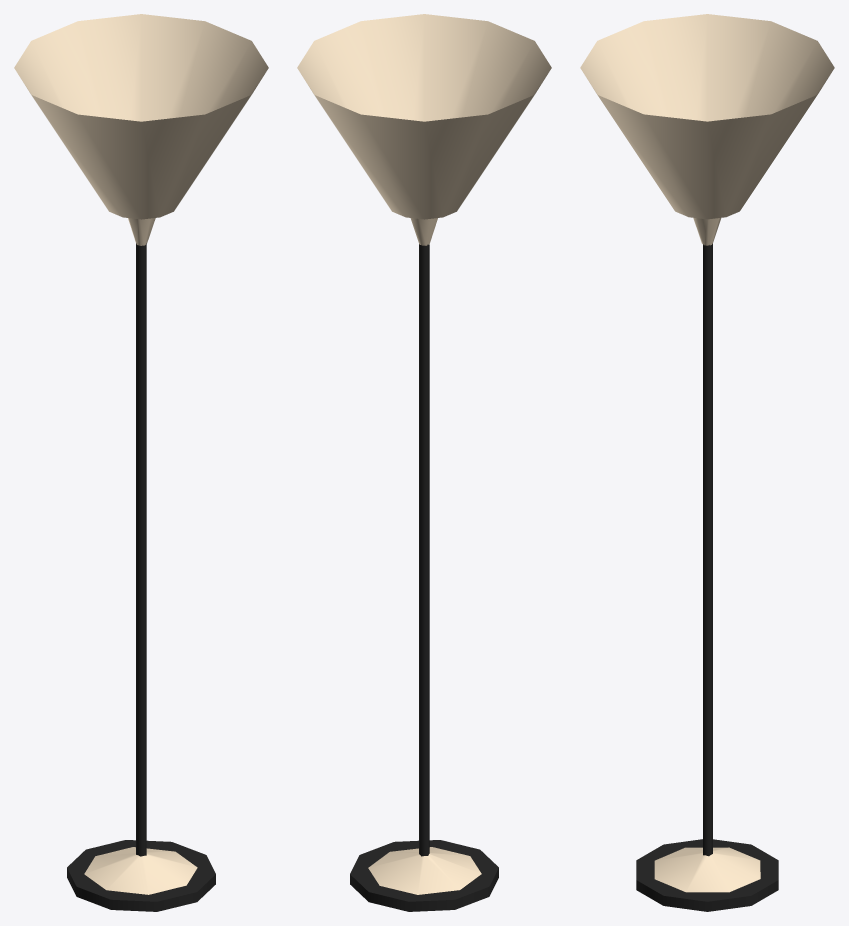
Rendered from Lamp.fbx.
3 renders of one model, left to right at view 1: azimuth 30°, elevation 25°; view 2: azimuth 150°, elevation 25°; view 3: azimuth 270°, elevation 25°, orthographic.
Parts seen in each view (by area): view 1: Model; view 2: Model; view 3: Model.
Boxes of the visible parts, x1=… form: Model: x1=14, y1=14, x2=268, y2=911; Model: x1=297, y1=14, x2=551, y2=911; Model: x1=580, y1=14, x2=834, y2=911.
Size of the model in its own units: 0.4923 by 1.73 by 0.4923.
